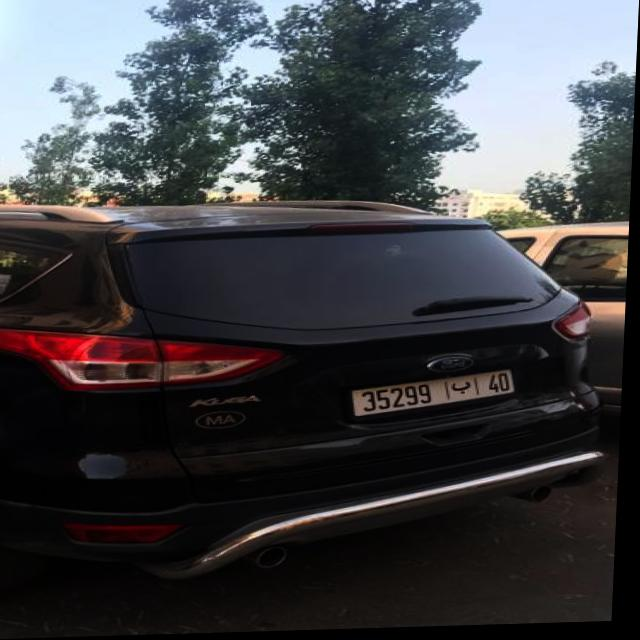License-Plate: (355, 373, 517, 418)
